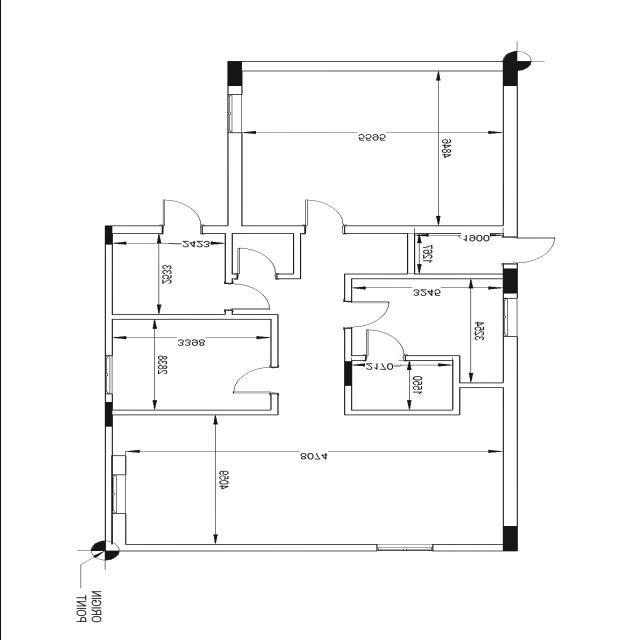Column: (498, 524, 518, 552), (500, 269, 518, 294), (502, 60, 518, 86), (226, 60, 242, 86), (342, 361, 352, 386), (104, 402, 112, 428), (104, 225, 112, 245)
Door: (296, 196, 354, 230), (499, 234, 556, 264), (226, 366, 278, 398), (157, 198, 205, 232), (359, 330, 408, 361), (346, 298, 392, 330), (234, 248, 279, 278), (226, 284, 274, 312), (102, 352, 114, 396)
Window: (500, 296, 518, 340), (110, 474, 126, 516), (226, 94, 242, 134), (372, 542, 436, 552)
